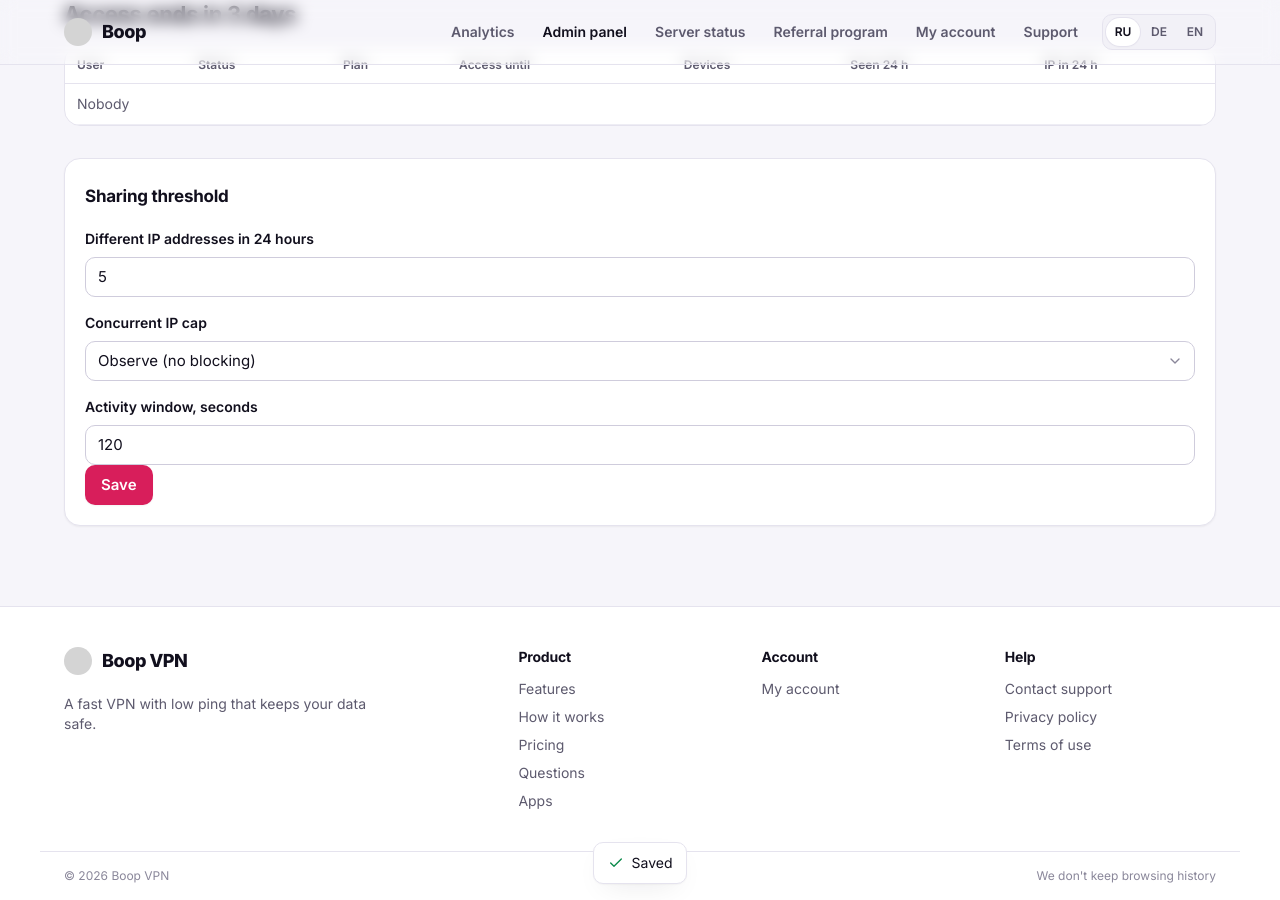
Test: a refused setting shows the server's message under the form
The width and height of the screenshot is (1280, 900).
(page scrolled)
Click the button "Save": (119, 485) left=85, top=465, right=152, bottom=505
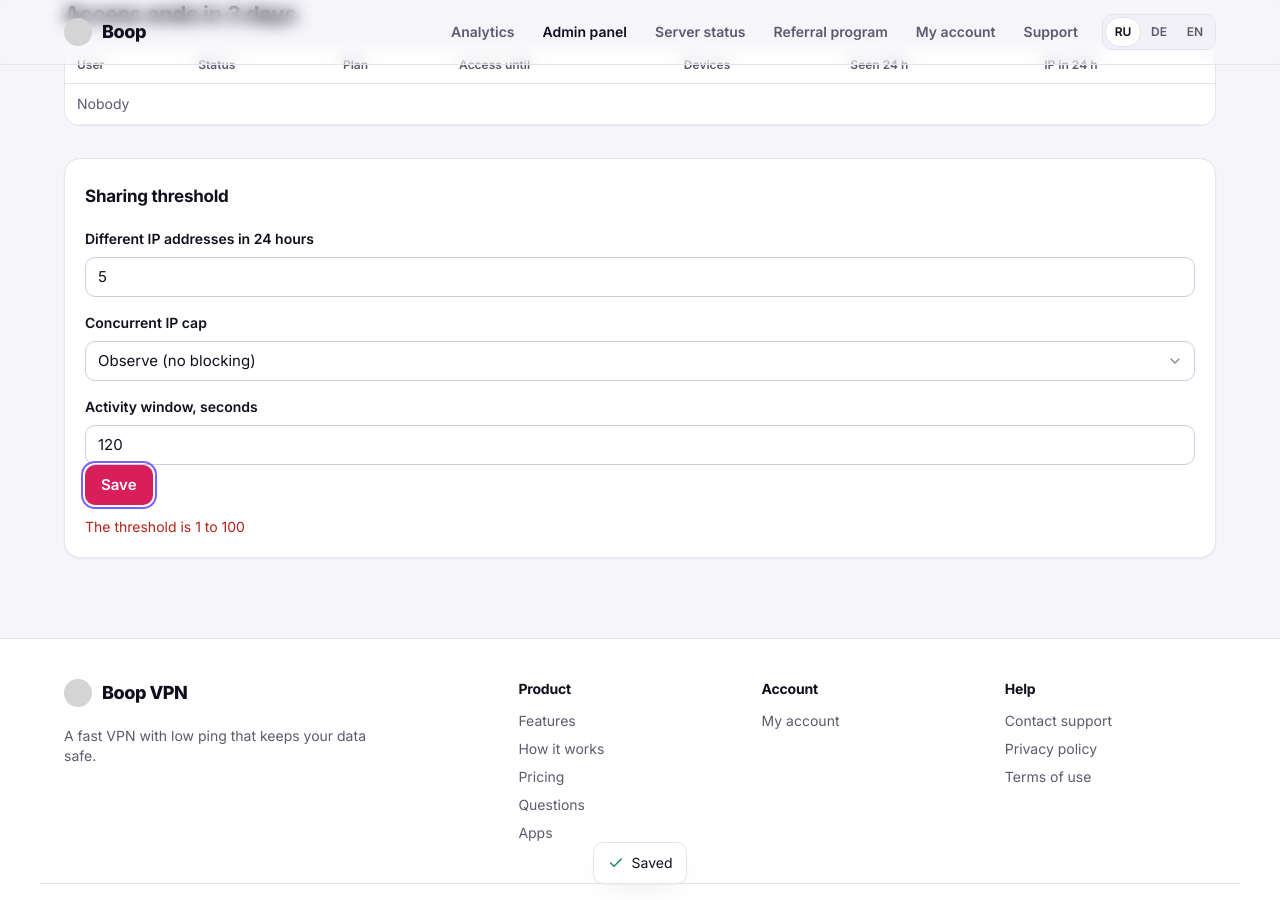
Now the message "The threshold is 1 to 100" is shown, box left=85, top=518, right=245, bottom=535
